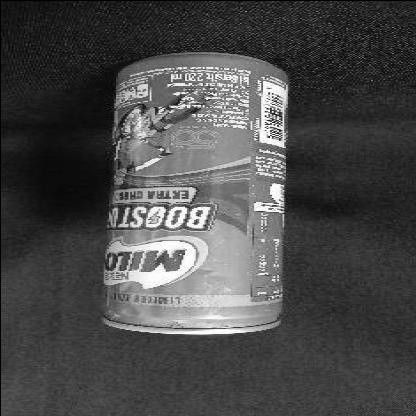alumunium_can: (100, 50, 288, 333)
